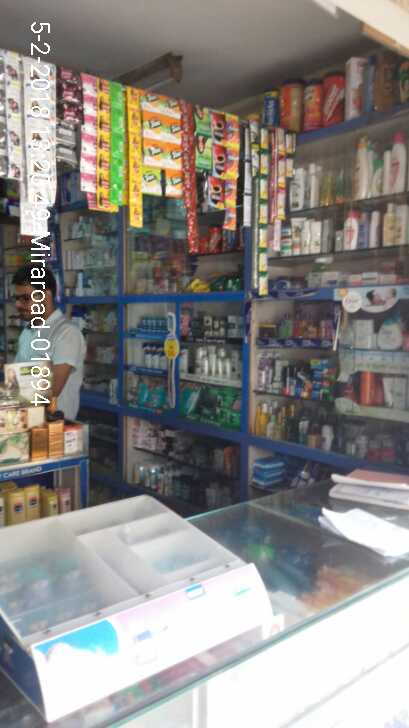beauty: (188, 343, 238, 382), (138, 343, 167, 371), (197, 308, 215, 338), (223, 312, 242, 335)
pharmacy: (204, 387, 245, 425), (149, 370, 170, 408), (129, 372, 148, 406), (137, 313, 165, 329)
